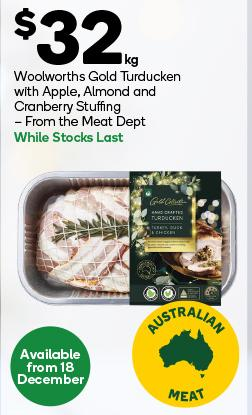description_block: (4, 65, 186, 130)
price_main: (8, 2, 146, 69)
product_image_block: (13, 161, 242, 316)
